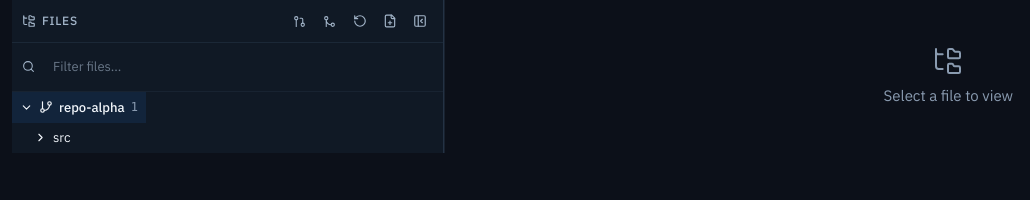
Test: UnifiedRepoView lazy directory tree › shows an inline directory error when expansion loading fails
Click the button "src": (45, 138) [12, 123, 79, 152]
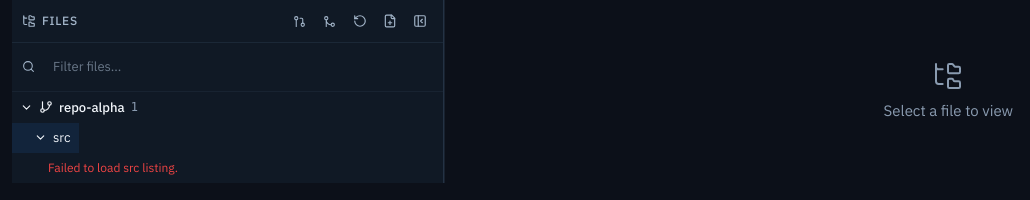
Result: the text "Failed to load src listing." is shown at [48, 160, 178, 175]
